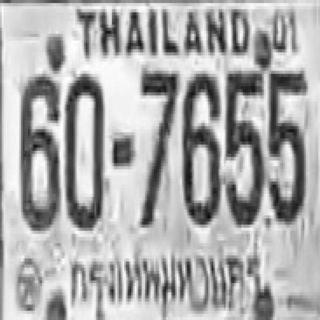N00: (64, 71, 104, 228)
N05: (224, 69, 262, 223), (268, 68, 306, 221)
N06: (19, 71, 58, 228), (182, 71, 219, 222)
N07: (139, 68, 178, 225)
P04: (61, 248, 260, 315)
